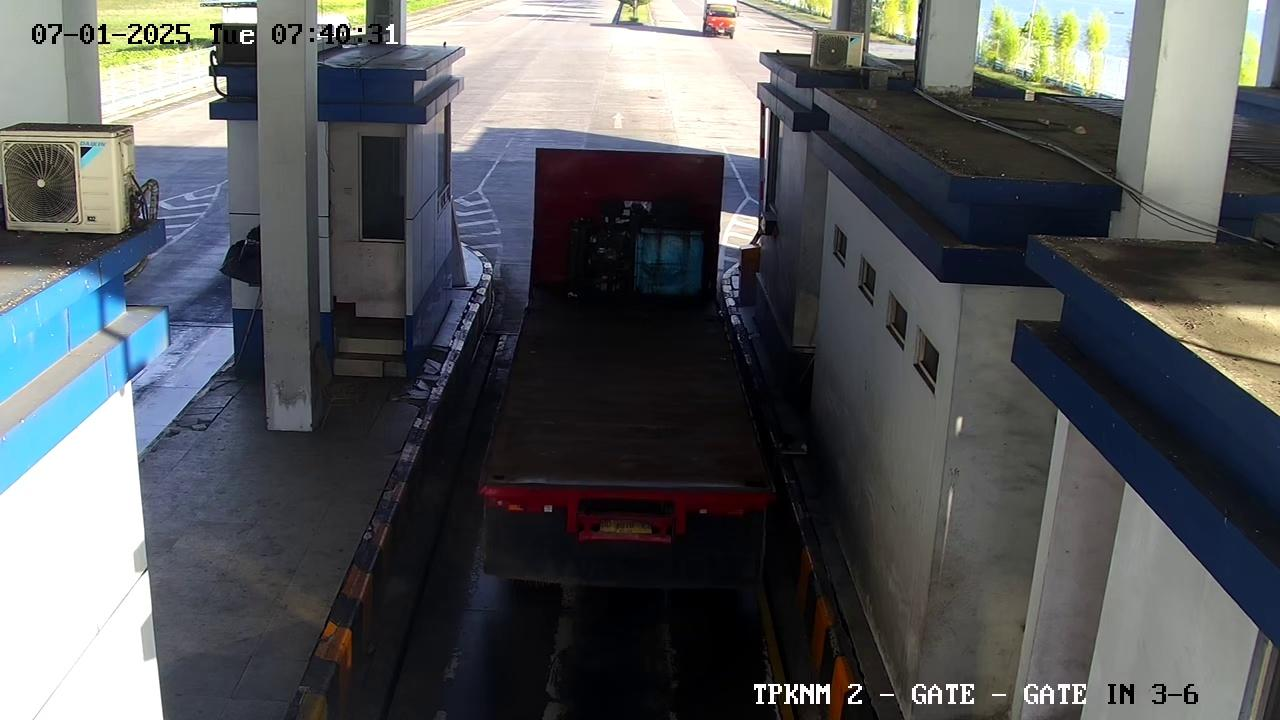plate_number: (573, 523, 670, 546)
